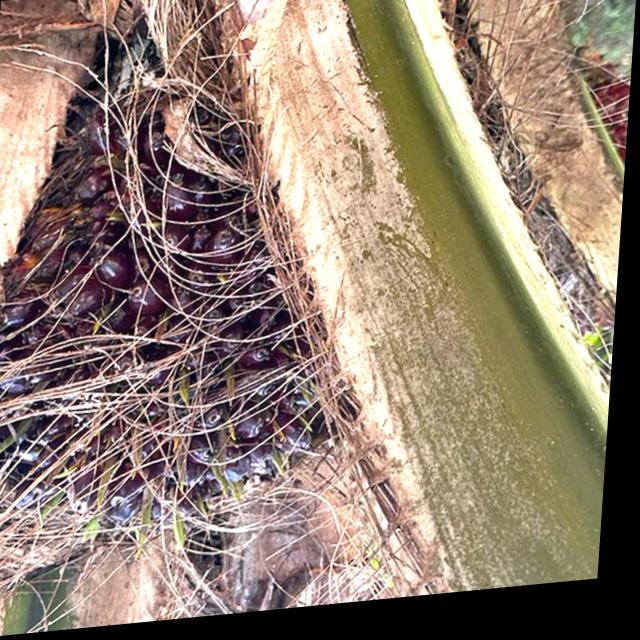almost: (0, 6, 393, 560)
